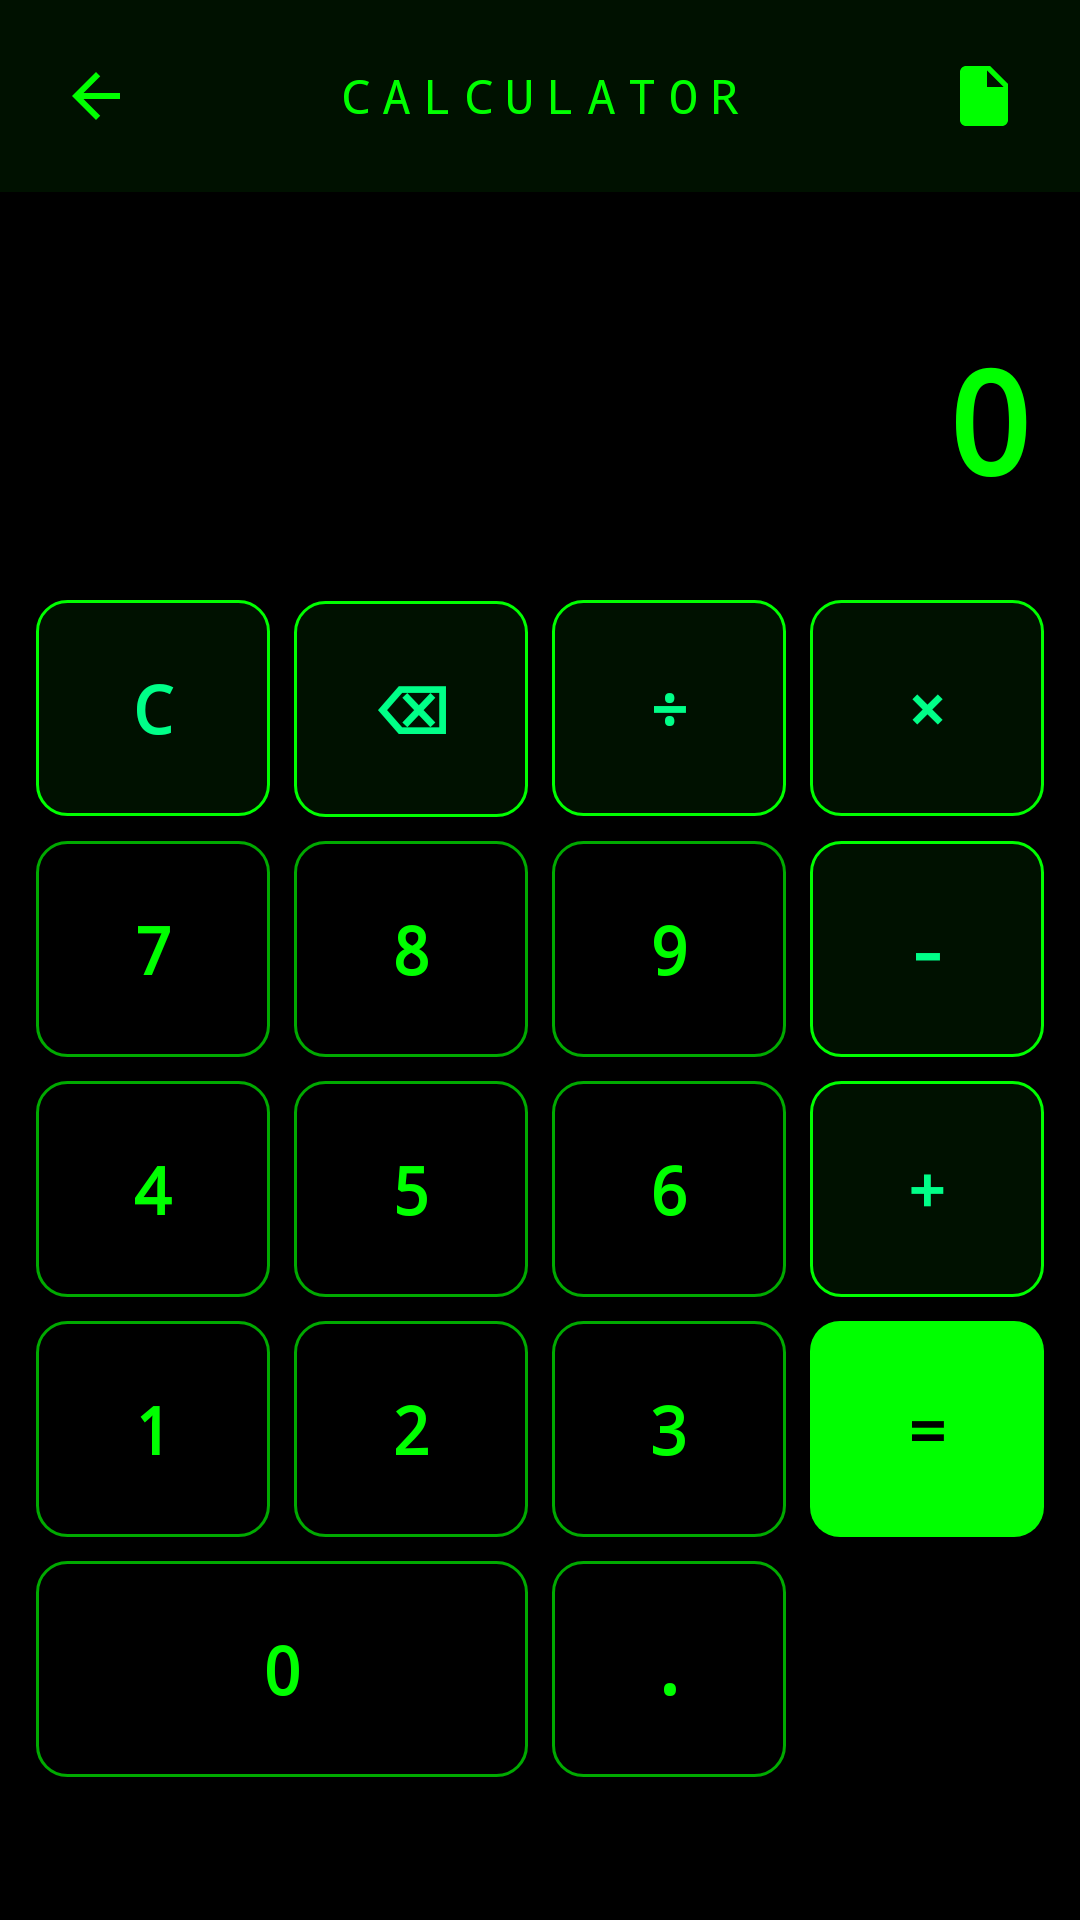

Screen size 1080w x 1920h. Icon name, then its box in pixels as (x1=x1, y1=y1, x2=x2, y2=y2):
back: (x1=72, y1=72, x2=120, y2=120)
file: (x1=960, y1=66, x2=1008, y2=126)
